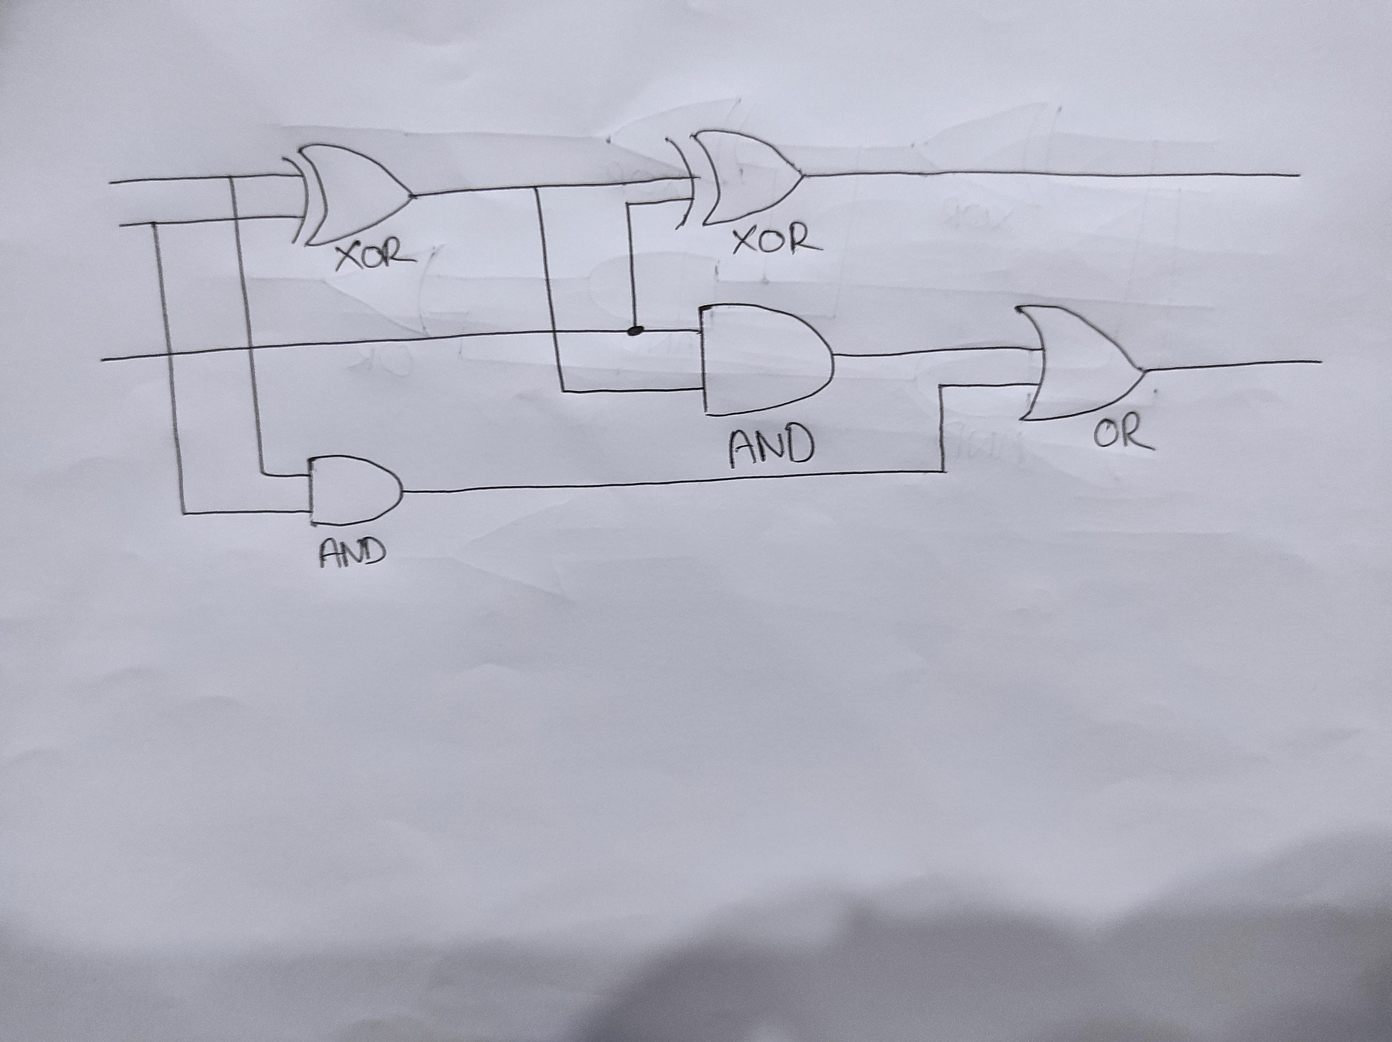and: (695, 298, 840, 421), (304, 448, 408, 529)
crossover: (241, 339, 259, 357), (161, 345, 181, 361), (225, 211, 245, 224), (546, 324, 564, 338)
junction: (930, 458, 955, 481), (929, 377, 952, 398), (625, 320, 647, 339), (526, 178, 546, 196), (220, 169, 237, 184), (620, 198, 636, 212), (257, 465, 271, 481), (555, 384, 571, 397), (176, 506, 192, 519), (146, 218, 161, 230)
or: (1011, 301, 1153, 424)
terminal: (1301, 351, 1333, 375), (1288, 167, 1308, 185), (112, 218, 132, 231), (92, 354, 111, 367), (102, 176, 120, 189)
text: (724, 421, 820, 468), (332, 232, 420, 273), (311, 531, 393, 574), (732, 220, 823, 258), (1090, 412, 1157, 456)
xor: (277, 140, 419, 250), (660, 126, 807, 232)
